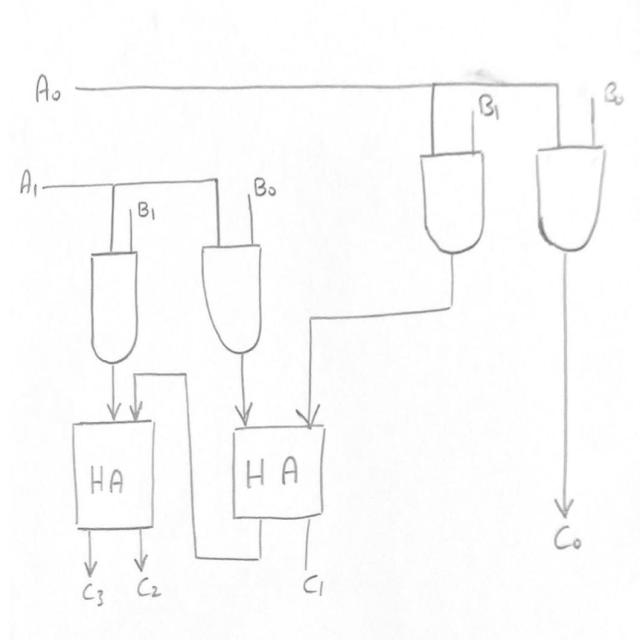AND: (192, 231, 280, 360), (529, 136, 610, 260), (412, 139, 492, 264), (83, 240, 151, 369)
